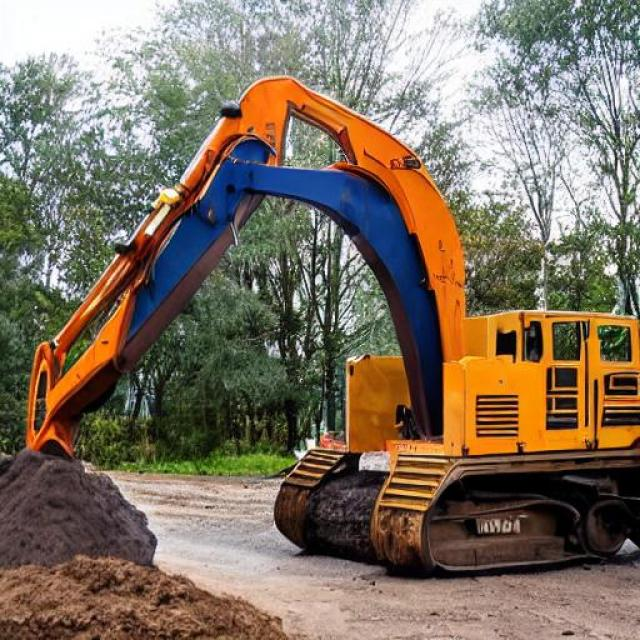excavator: (375, 153, 625, 512)
truck: (46, 327, 220, 484)
